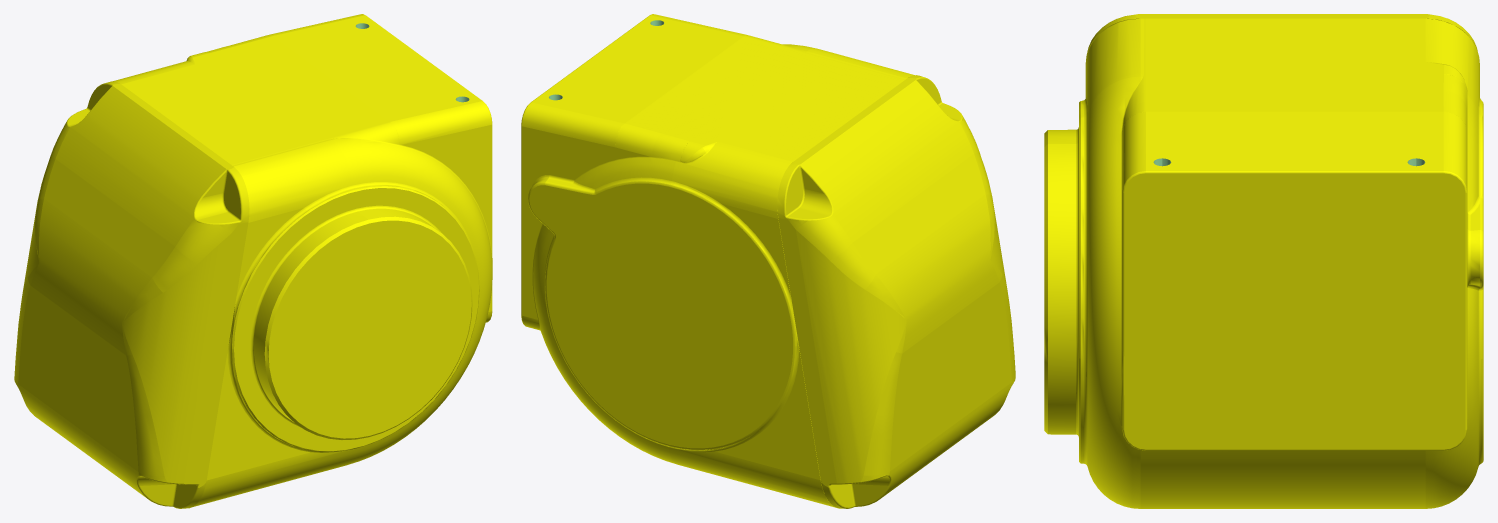
3 renders of one model, left to right at view 1: azimuth 30°, elevation 25°; view 2: azimuth 150°, elevation 25°; view 3: azimuth 270°, elevation 25°, orthographic. The views are drawn at different scales.
Parts seen in each view (by area): view 1: Mesh_0; view 2: Mesh_0; view 3: Mesh_0.
Boxes of the visible parts, box(x1,y1,x2,y2) form: Mesh_0: box(14, 14, 492, 508); Mesh_0: box(521, 14, 1015, 508); Mesh_0: box(1044, 14, 1483, 508).
Size of the model in its own units: 0.1419 by 0.121 by 0.1273.
